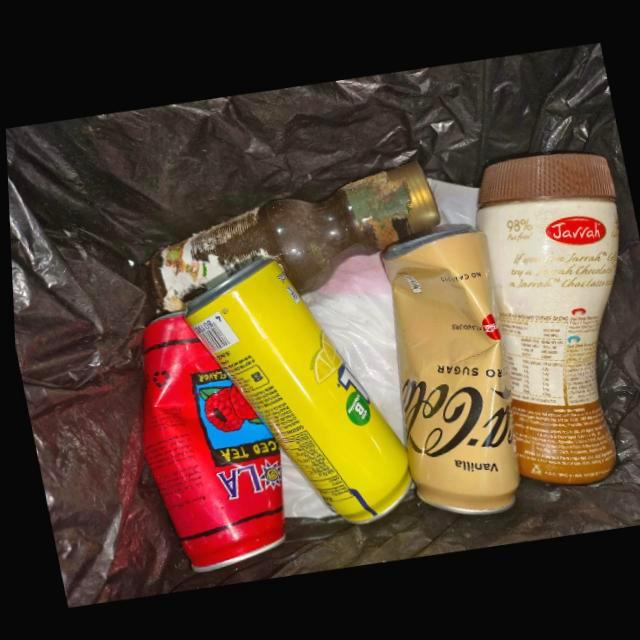aluminum: (182, 256, 408, 525), (378, 222, 516, 516), (136, 310, 282, 574)
glass_bottle: (143, 159, 439, 312)
plastic_bottle: (474, 151, 619, 485)
